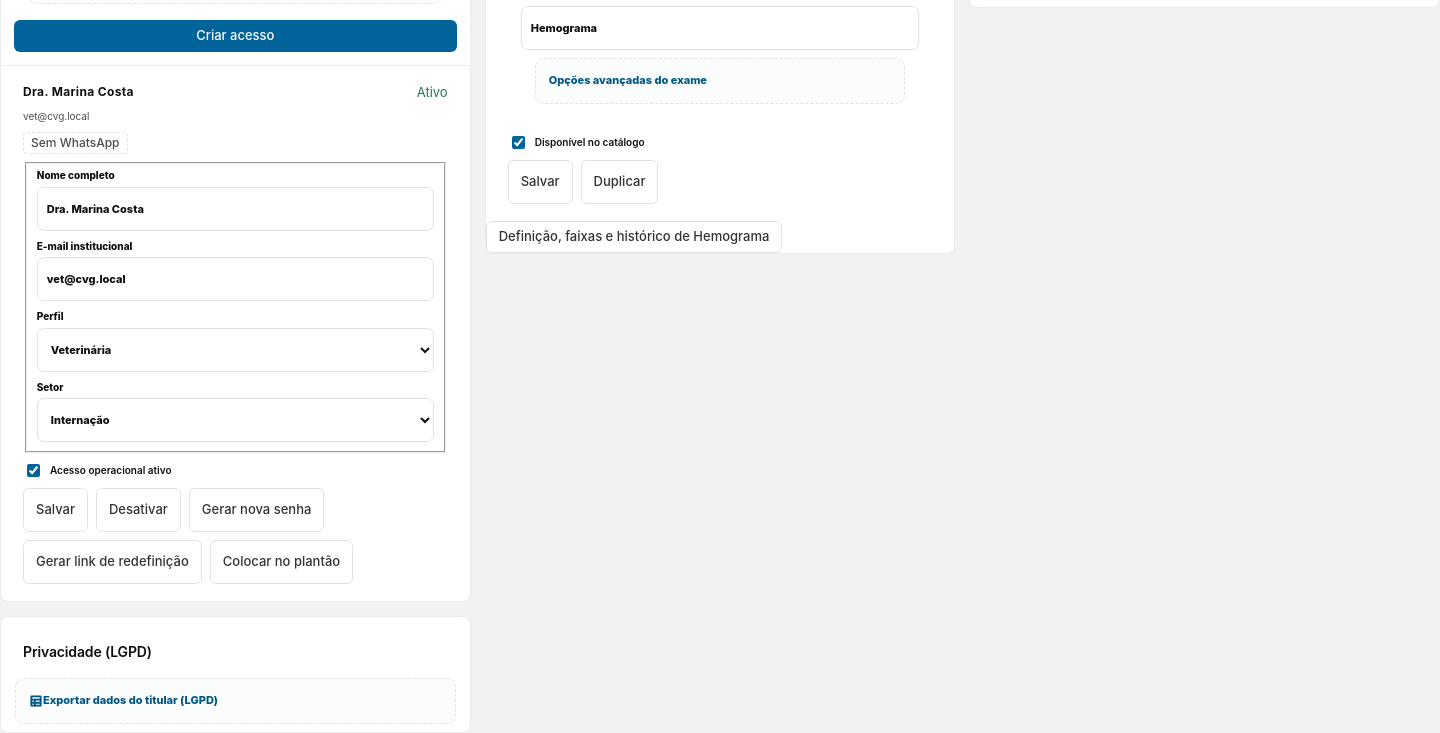
Test: AdminConsole › cancels regeneration before writing and retains an actionable retry after a failure
(page scrolled)
Expected: the text "Dra. Marina Costa" is shown, [23,83,134,101]
Click the button "Gerar nova senha": x=257, y=510 [189,488,324,532]
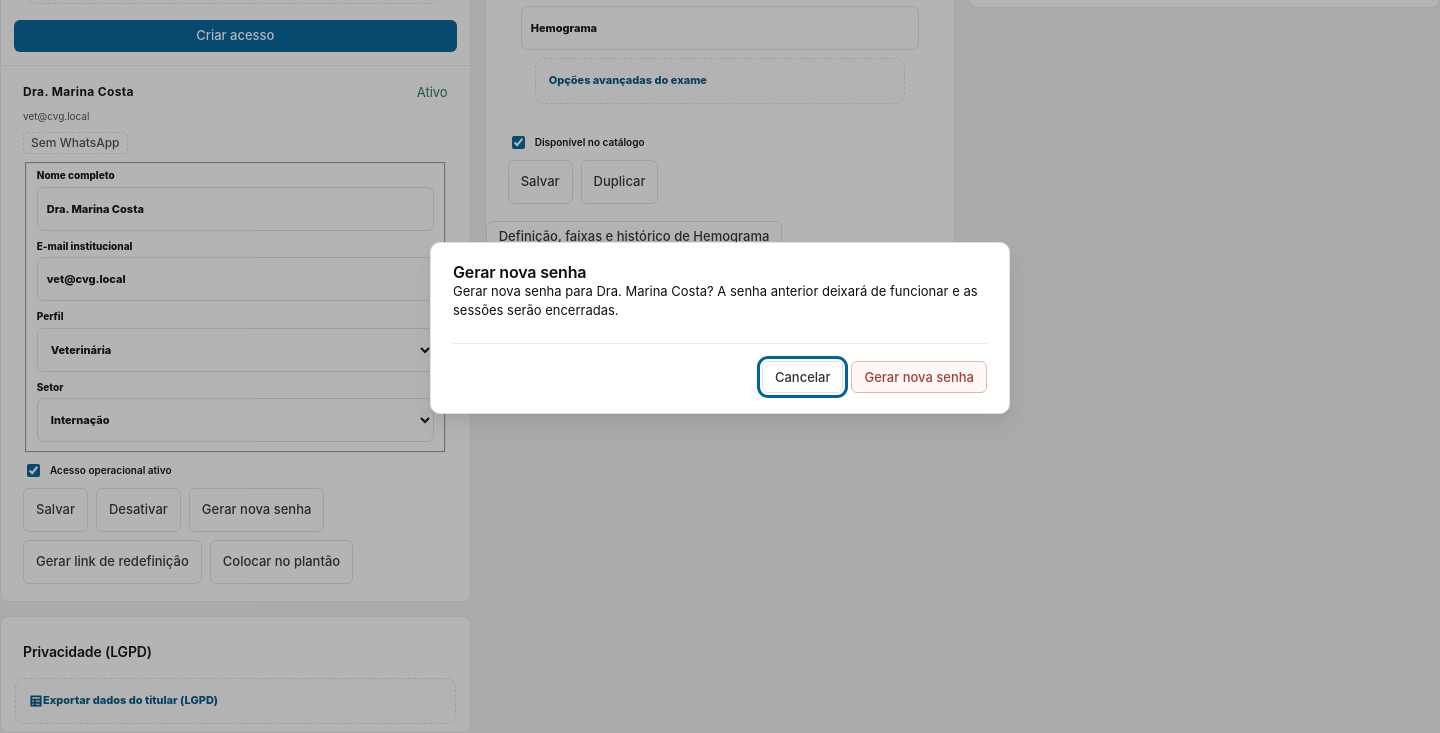
Click the button "Cancelar": x=803, y=377 [762,361,844,393]
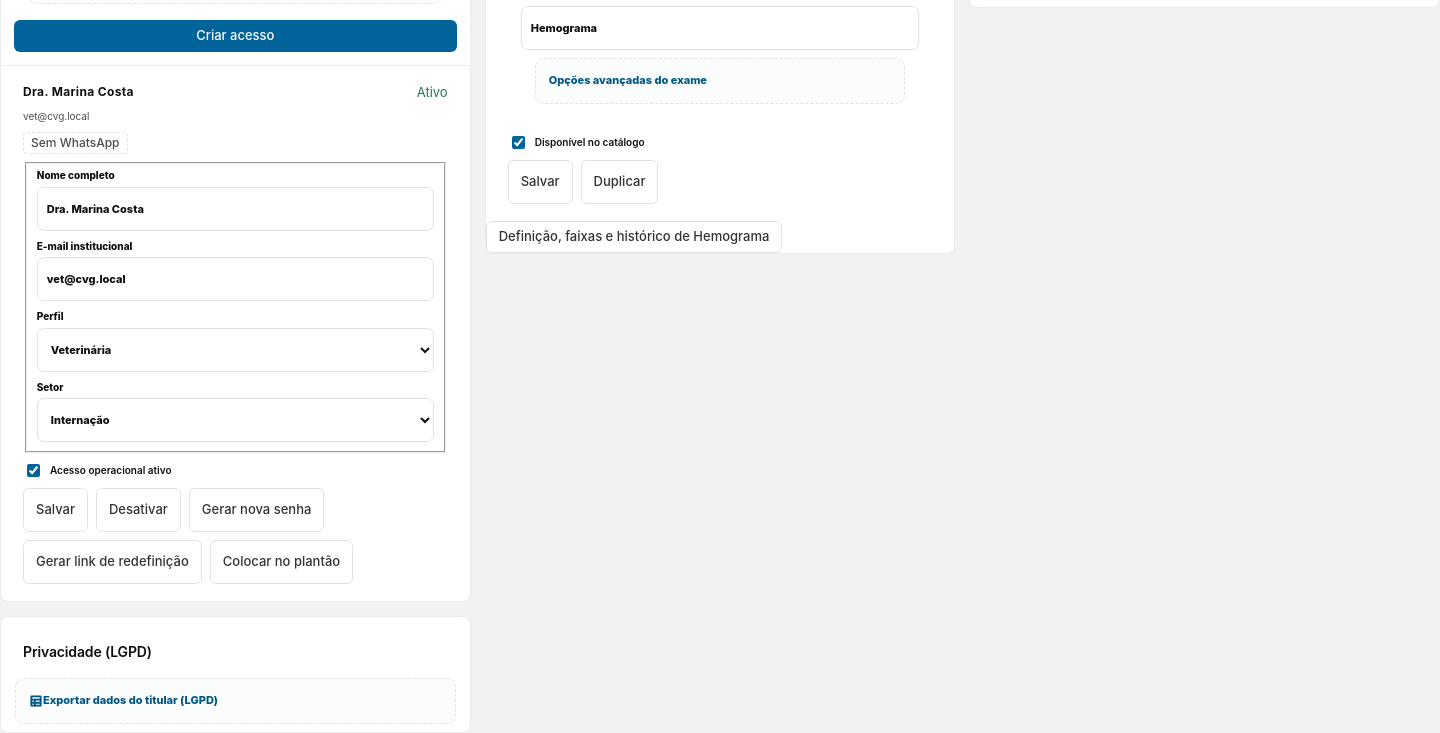
Click the button "Gerar nova senha": x=257, y=510 [189,488,324,532]
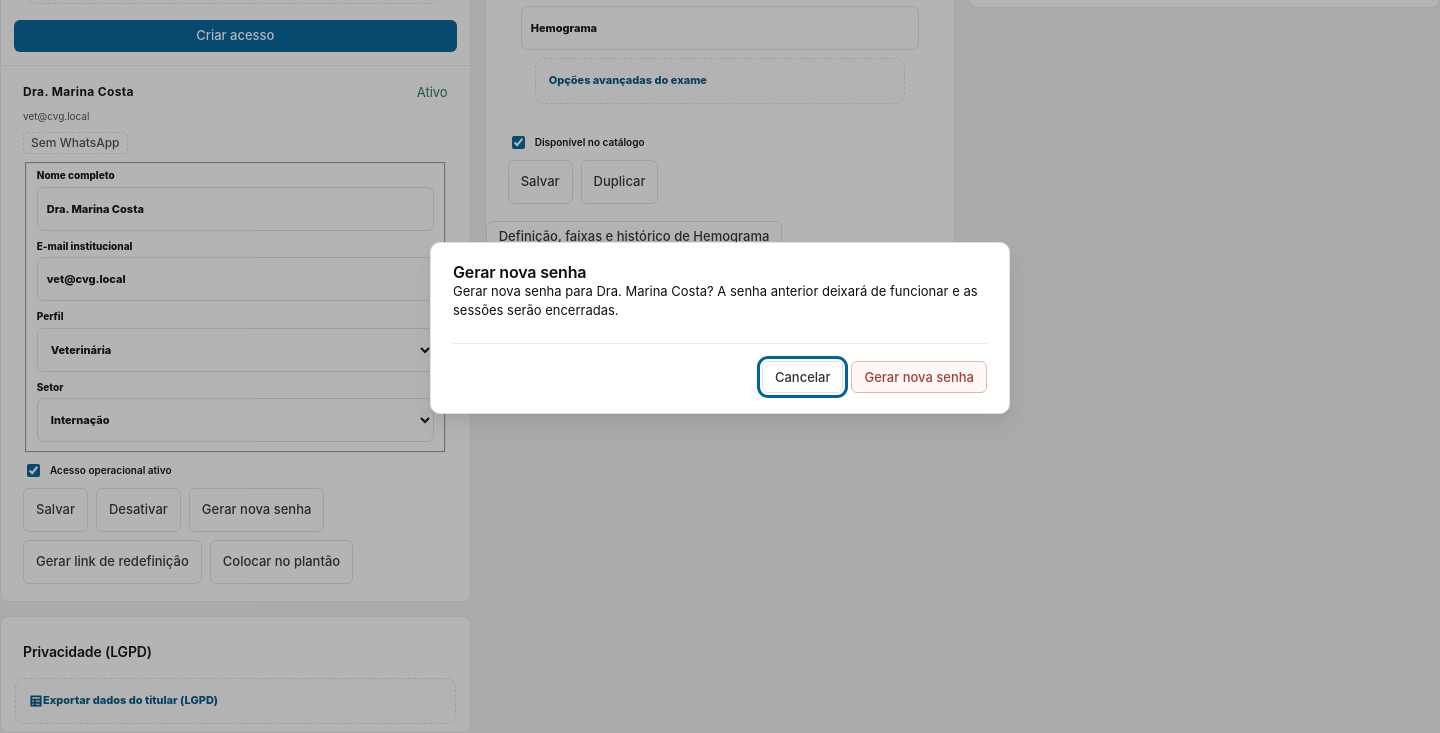
Click the button "Gerar nova senha": x=919, y=377 [852,361,987,393]
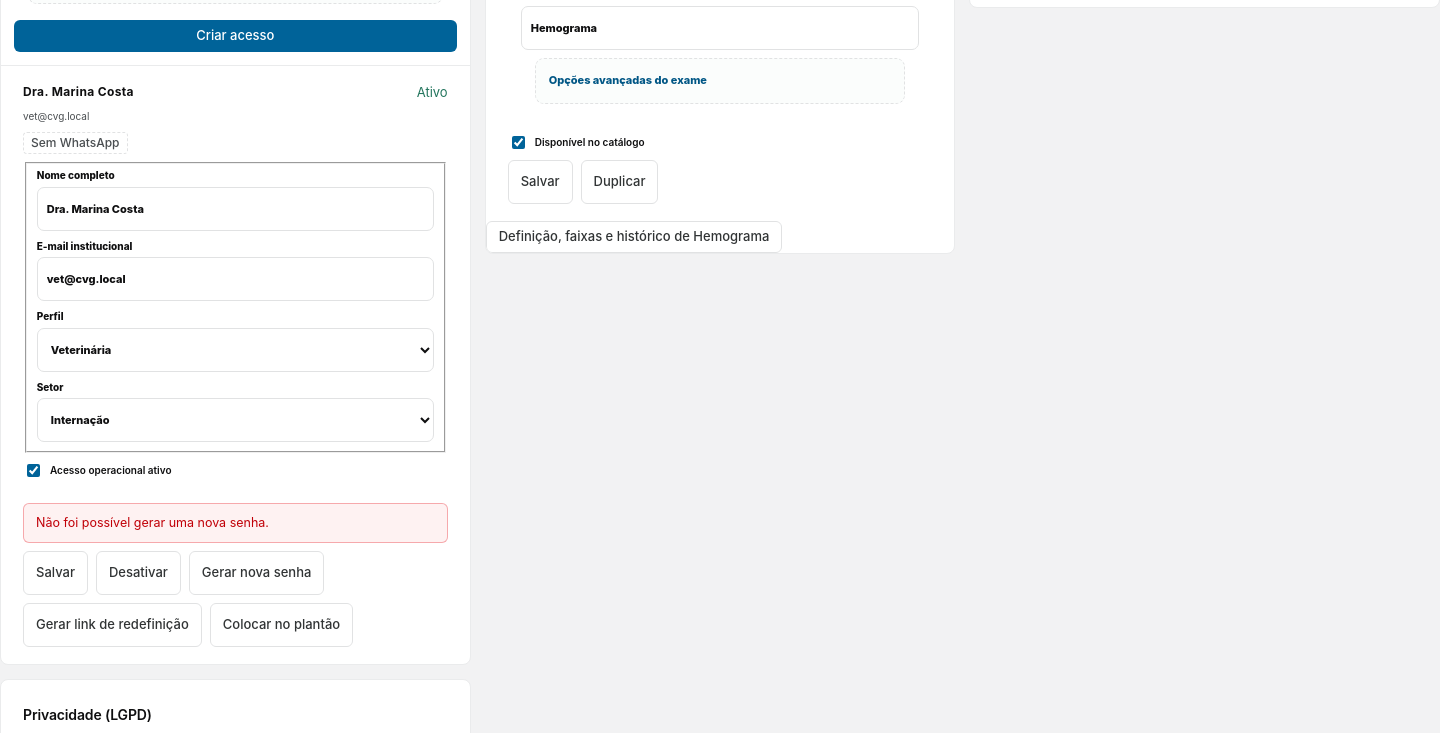
Expected: the message "Não foi possível gerar uma nova senha." is shown, [23,503,448,543]
Expected: the dialog is gone
Click the button "Gerar nova senha": x=257, y=573 [189,551,324,595]
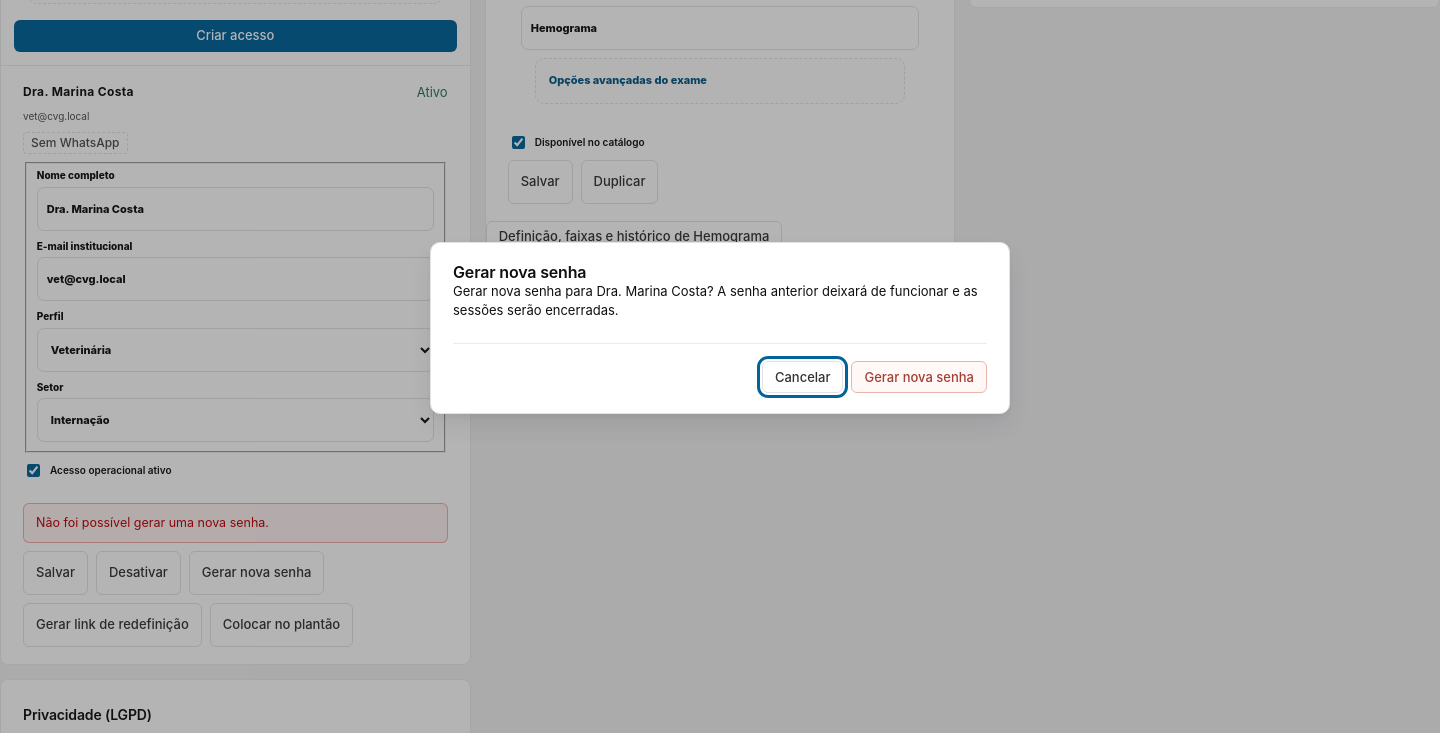
Click the button "Gerar nova senha": x=919, y=377 [852,361,987,393]
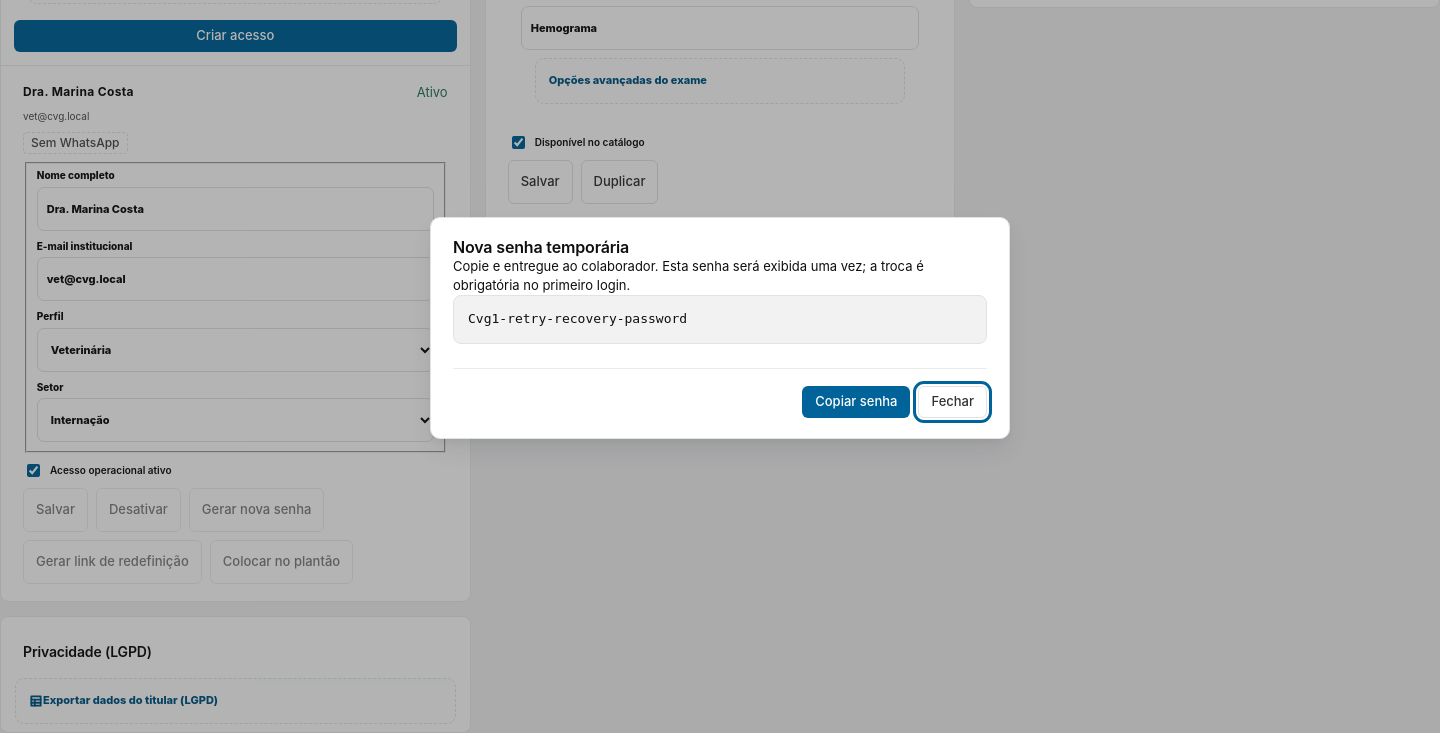
Expected: the dialog "Nova senha temporária" is shown, [430,217,1010,439]
